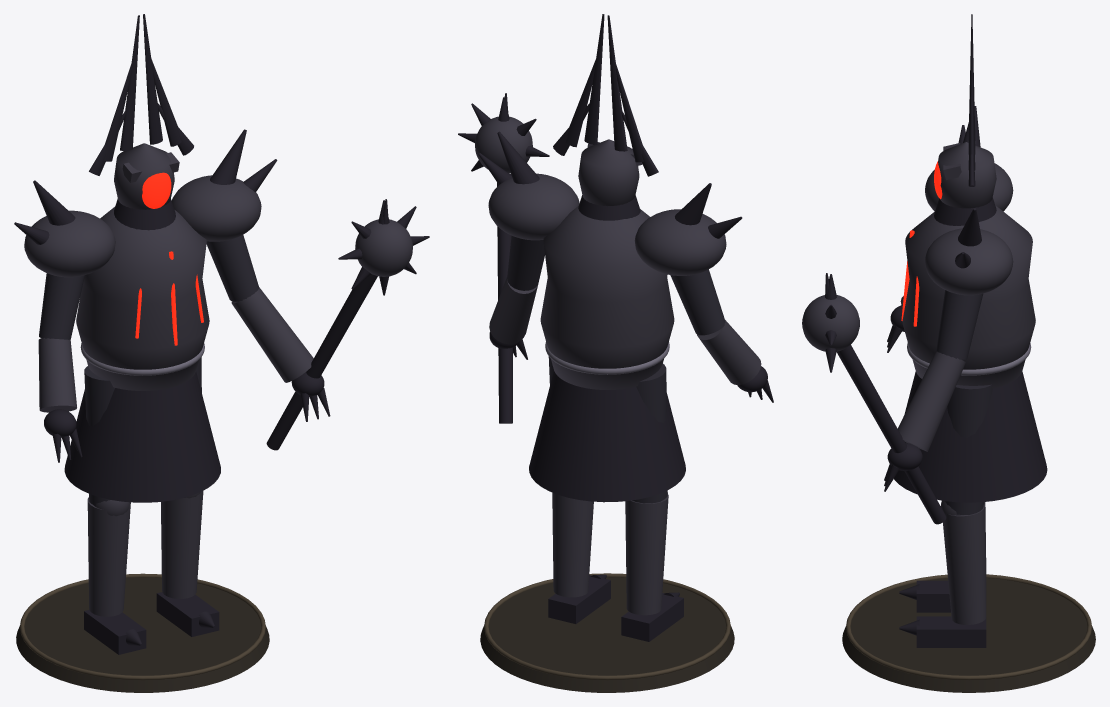
Rendered from sauron.glb.
The picture shows the model from 3 angles, left to right: view 1: azimuth 30°, elevation 25°; view 2: azimuth 150°, elevation 25°; view 3: azimuth 270°, elevation 25°; orthographic projection.
Visible parts, largest first — view 1: cuirass, base, tassets, pauldron_l, pauldron_r, greave_l, greave_r, vambrace_r, mace_haft, vambrace_l, mace_head, base_ring (+16 smaller); view 2: cuirass, base, tassets, greave_l, pauldron_l, pauldron_r, greave_r, helm_shell, base_ring, arm_upper_l, vambrace_l, vambrace_r (+14 smaller); view 3: base, cuirass, tassets, greave_r, pauldron_r, vambrace_r, mace_haft, helm_shell, base_ring, mace_head, arm_upper_r, thigh_r (+7 smaller).
Part boxes in pixels (bbox=[...]): cuirass: bbox=[76, 207, 209, 390]; base: bbox=[16, 577, 269, 692]; tassets: bbox=[64, 371, 220, 502]; pauldron_l: bbox=[24, 210, 115, 277]; pauldron_r: bbox=[171, 175, 261, 241]; greave_l: bbox=[87, 497, 130, 616]; greave_r: bbox=[161, 491, 203, 598]; vambrace_r: bbox=[231, 287, 313, 382]; mace_haft: bbox=[266, 274, 377, 450]; vambrace_l: bbox=[38, 338, 76, 412]; mace_head: bbox=[355, 219, 412, 276]; base_ring: bbox=[20, 573, 265, 680]; cuirass: bbox=[540, 206, 674, 389]; base: bbox=[480, 577, 734, 692]; tassets: bbox=[529, 371, 685, 502]; greave_l: bbox=[625, 494, 668, 615]; pauldron_l: bbox=[634, 209, 726, 275]; pauldron_r: bbox=[488, 173, 579, 240]; greave_r: bbox=[552, 492, 593, 597]; helm_shell: bbox=[578, 139, 639, 206]; base_ring: bbox=[484, 573, 730, 680]; arm_upper_l: bbox=[670, 269, 725, 335]; vambrace_l: bbox=[697, 320, 761, 384]; vambrace_r: bbox=[489, 277, 538, 344]; base: bbox=[842, 578, 1095, 692]; cuirass: bbox=[902, 205, 1035, 388]; tassets: bbox=[894, 371, 1047, 502]; greave_r: bbox=[943, 504, 986, 624]; pauldron_r: bbox=[925, 228, 1013, 295]; vambrace_r: bbox=[897, 351, 965, 451]; mace_haft: bbox=[836, 345, 946, 524]; helm_shell: bbox=[938, 142, 996, 208]; base_ring: bbox=[846, 574, 1091, 680]; mace_head: bbox=[802, 295, 859, 351]; arm_upper_r: bbox=[936, 290, 983, 359]; thigh_r: bbox=[944, 384, 992, 514].
Bounding box in the file's own units: 1.39 × 2.37 × 1.01.
